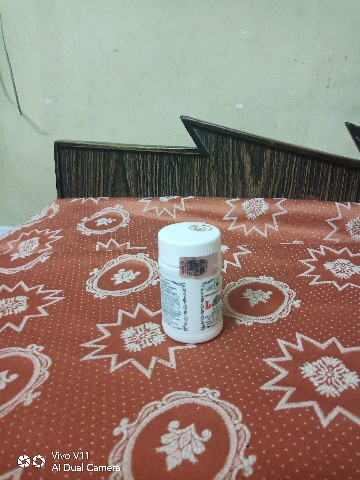lgasafoetidapowder small: (151, 208, 233, 352)
